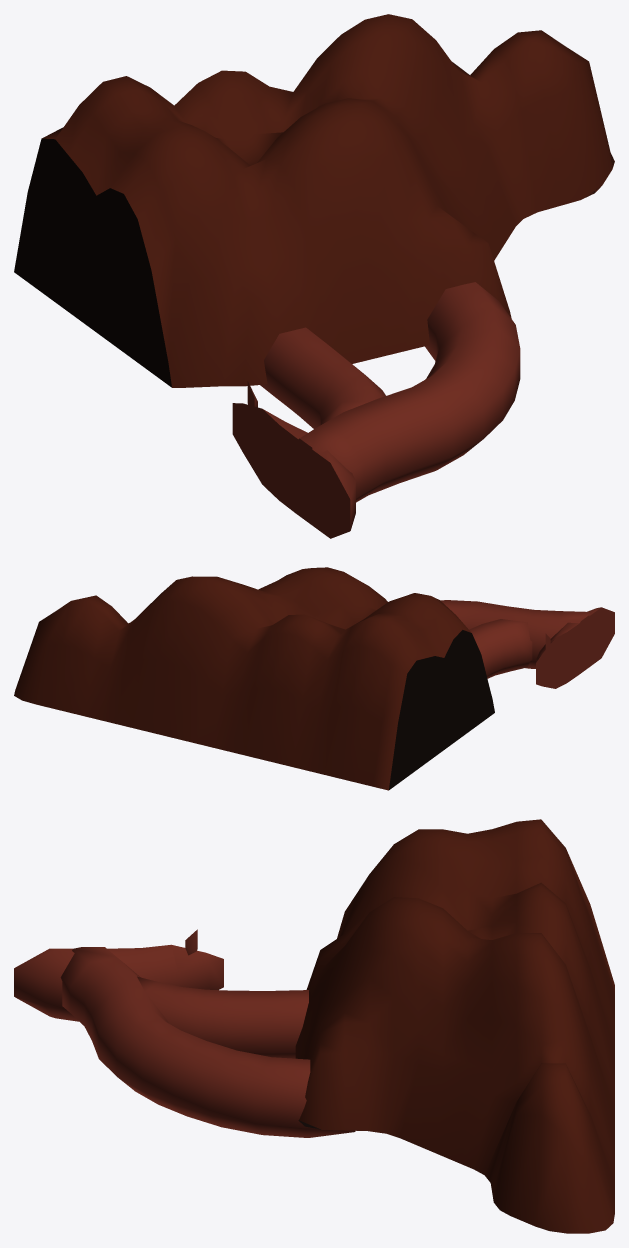
File: newsh5-276.glb
The picture shows the model from 3 angles, top to bottom: view 1: azimuth 30°, elevation 25°; view 2: azimuth 150°, elevation 25°; view 3: azimuth 270°, elevation 25°; orthographic projection. The views are drawn at different scales.
Visible parts, largest first — view 1: newsh5-276; view 2: newsh5-276; view 3: newsh5-276.
Part boxes in pixels (<box>): newsh5-276: <box>14,14,614,538</box>; newsh5-276: <box>14,567,614,790</box>; newsh5-276: <box>14,819,614,1233</box>.
Size of the model in its own units: 1.99 by 0.8161 by 2.04.
